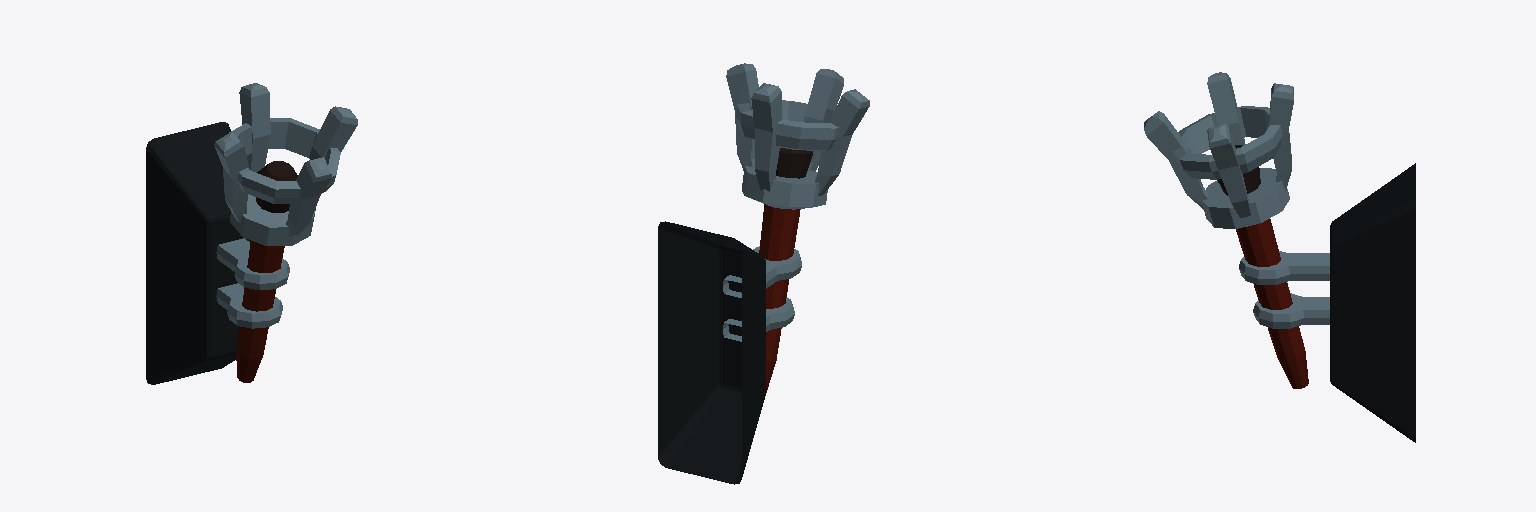
File: torchWall.obj
3 views of the same model, side by side, from view 1: azimuth 30°, elevation 25°; view 2: azimuth 150°, elevation 25°; view 3: azimuth 270°, elevation 25° (orthographic).
Visible parts, largest first — view 1: torchWall_Cylinder.013; view 2: torchWall_Cylinder.013; view 3: torchWall_Cylinder.013.
Boxes of the visible parts, box(x1,y1,x2,y2) form: torchWall_Cylinder.013: box(146, 83, 357, 384); torchWall_Cylinder.013: box(658, 63, 869, 484); torchWall_Cylinder.013: box(1144, 72, 1415, 442).
Bounding box in the file's own units: 0.6436 × 1.57 × 1.13.